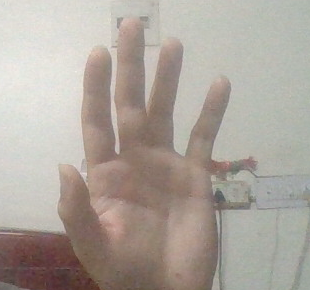move: (40, 16, 237, 290)
